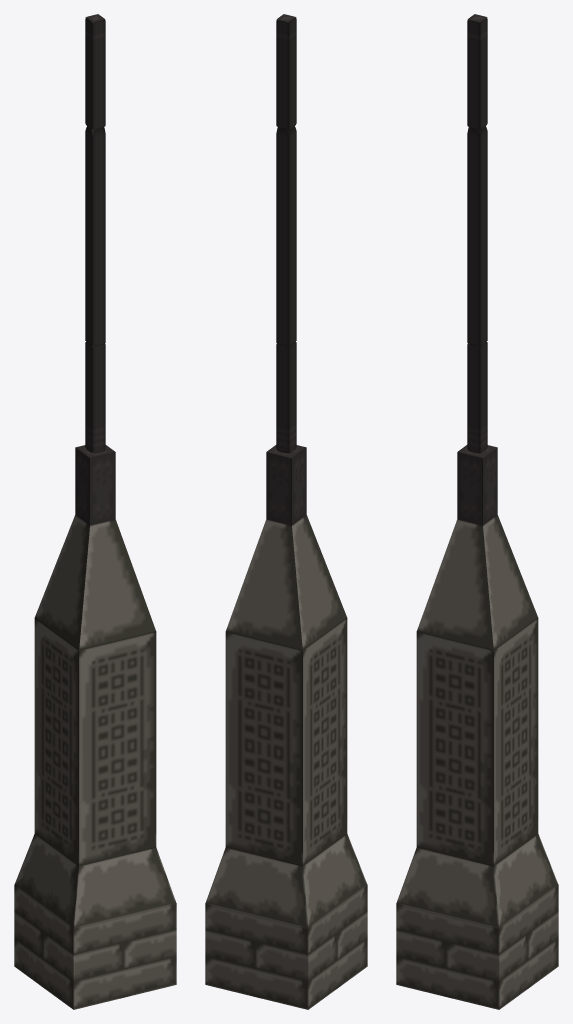
File: Roof_Corner_Decor.fbx
3 renders of one model, left to right at view 1: azimuth 30°, elevation 25°; view 2: azimuth 150°, elevation 25°; view 3: azimuth 330°, elevation 25°, orthographic.
Visible parts, largest first — view 1: Roof_Corner_Decor; view 2: Roof_Corner_Decor; view 3: Roof_Corner_Decor.
Boxes of the visible parts, bbox=[...] form: Roof_Corner_Decor: bbox=[14, 14, 176, 1009]; Roof_Corner_Decor: bbox=[205, 14, 367, 1009]; Roof_Corner_Decor: bbox=[396, 14, 558, 1009].
Size of the model in its own units: 200 by 1775 by 200.
Materials: 1 (1 with a texture image).
